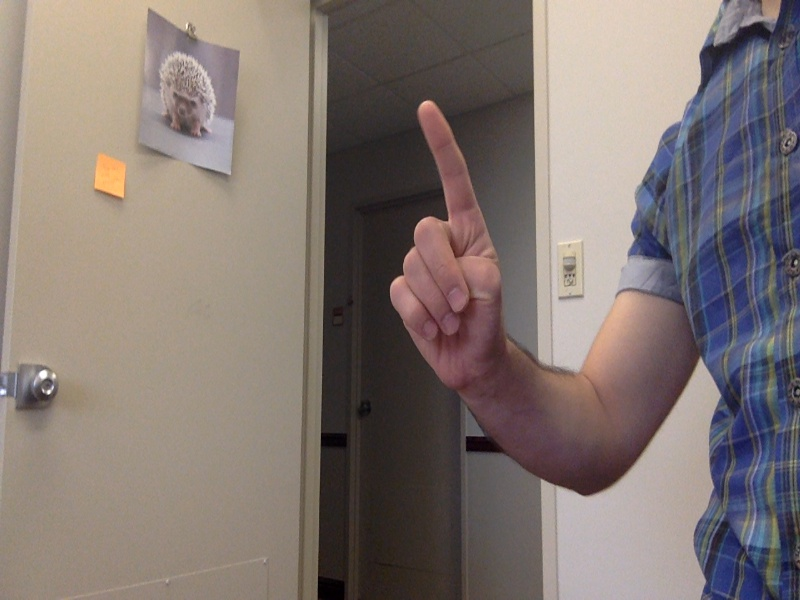1-hand: (379, 96, 509, 388)
